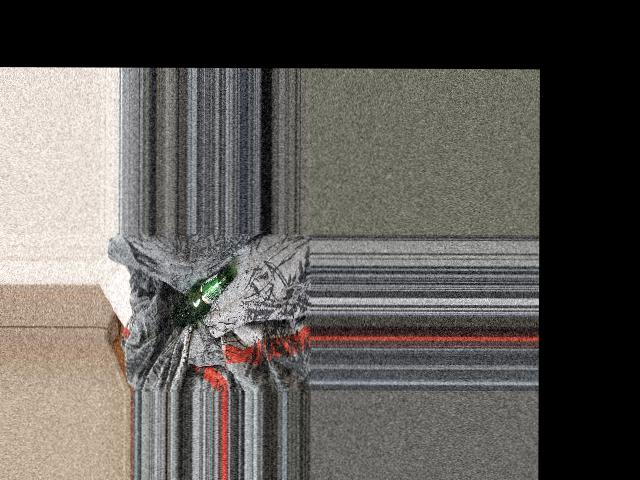beer: (173, 268, 234, 326)
